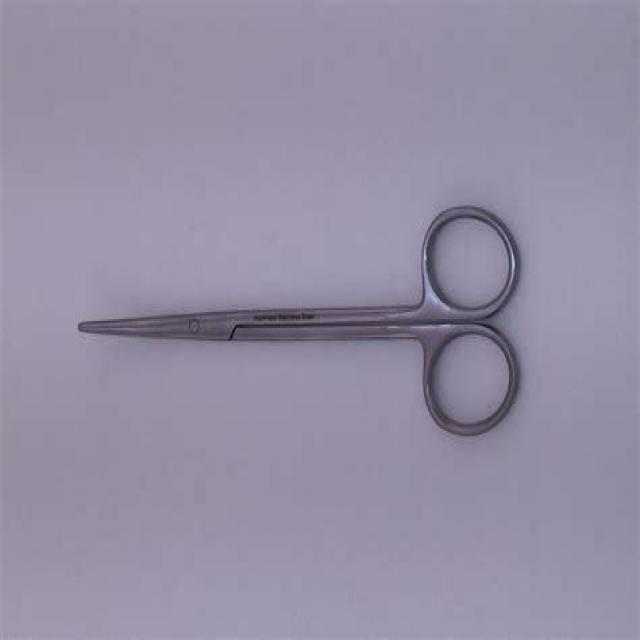Iris: (74, 200, 524, 442)
